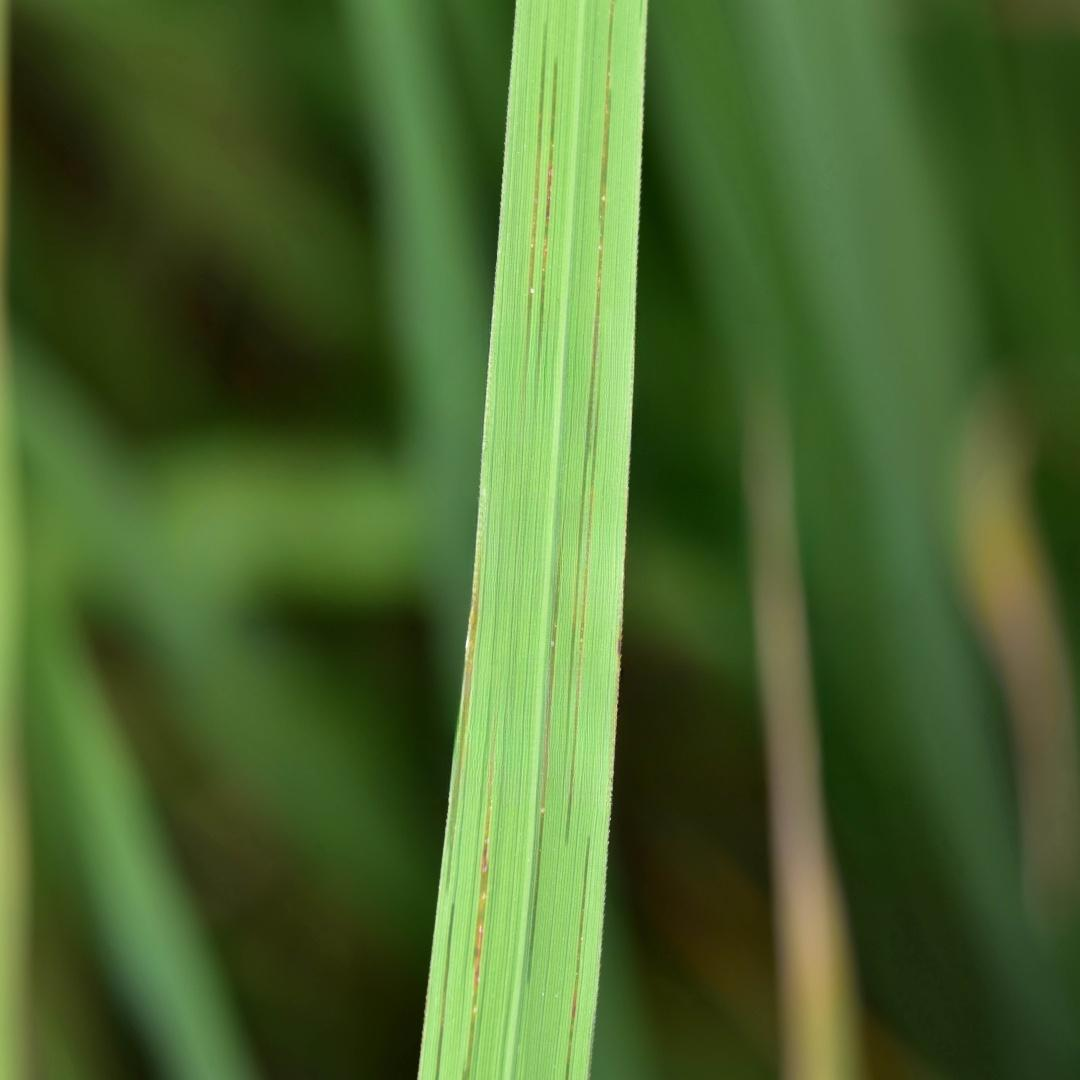BLS: (561, 0, 614, 825), (566, 365, 601, 838), (527, 534, 562, 977), (446, 524, 478, 896), (463, 757, 492, 1079), (535, 57, 558, 412), (527, 18, 546, 374), (564, 833, 590, 1079), (433, 952, 448, 1079), (448, 908, 452, 941)
